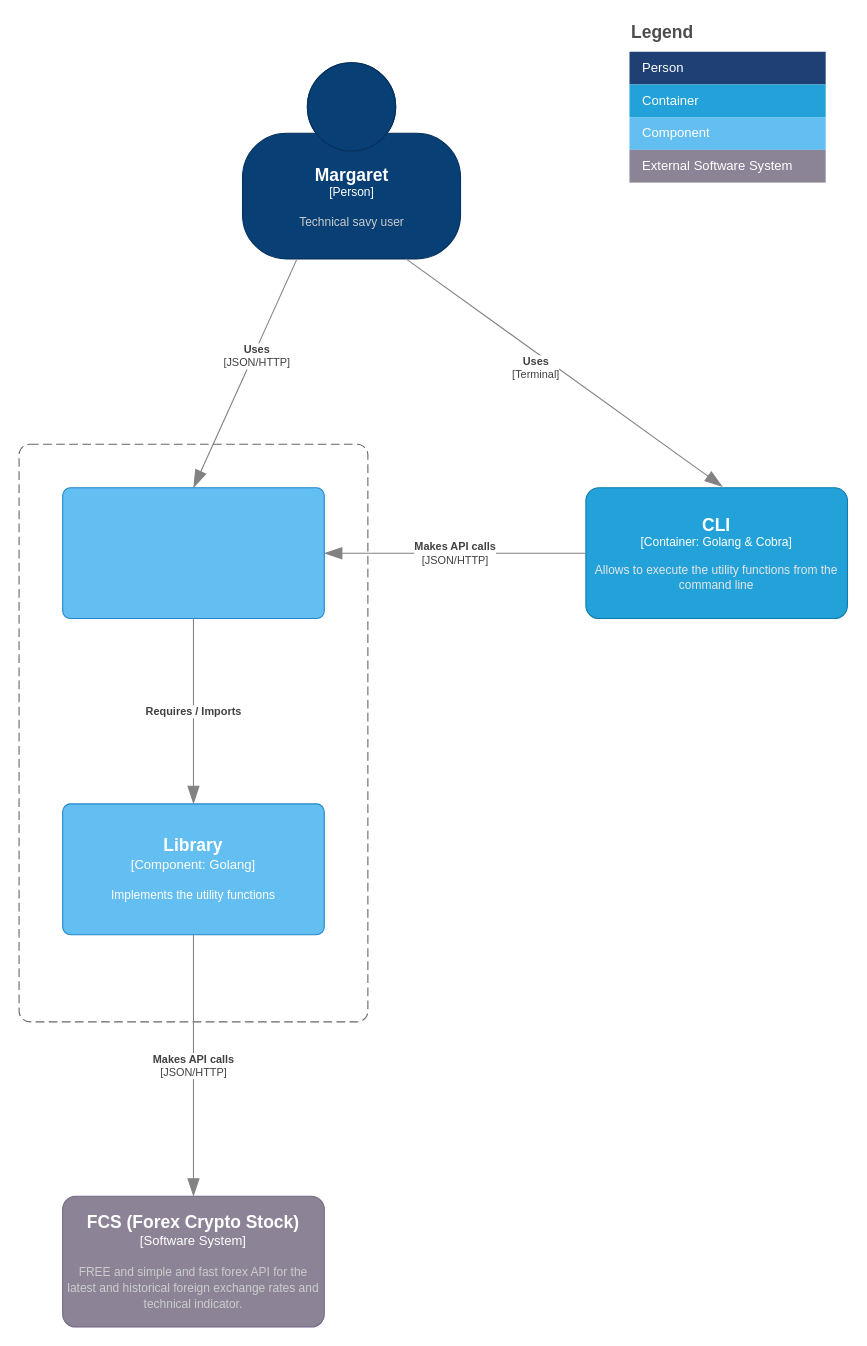
Some shapes in this 867 by 1346 pixel diagram are drawn without their labels. The box of each missing label's shape, as (x1, y1, x2, y2) in pixels:
API [Component: Golang & Gin] Exposes library functionality as REST endpoints: (62, 487, 324, 619)
API Application [Container]: (18, 443, 368, 1022)
